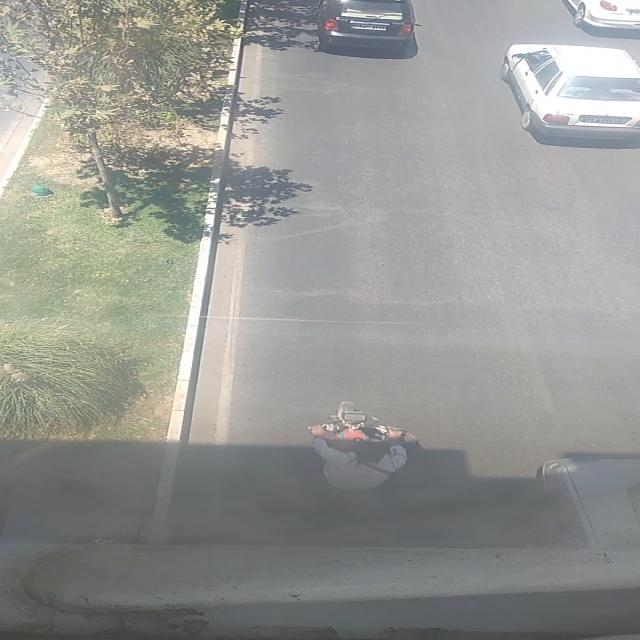car: (498, 43, 639, 141), (310, 2, 422, 52), (562, 0, 639, 38)
motorbike: (302, 402, 419, 509)
